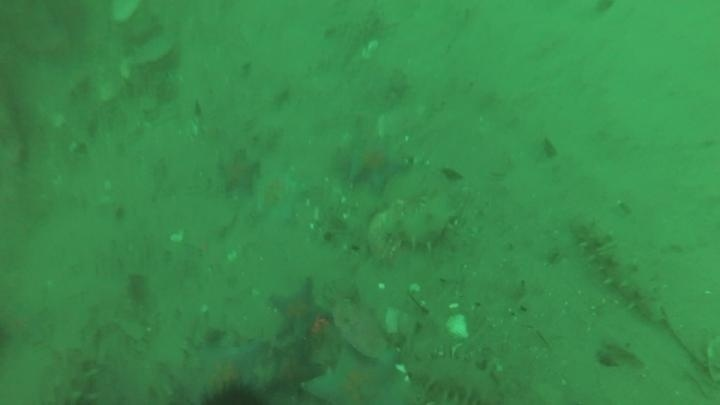echinus: (195, 378, 267, 405)
holothurian: (571, 216, 667, 324), (407, 349, 505, 405), (379, 187, 460, 254), (45, 333, 104, 405)
starfish: (300, 343, 413, 405), (182, 333, 270, 404), (267, 278, 337, 344), (341, 133, 412, 195), (252, 164, 310, 223), (266, 339, 322, 395), (214, 148, 263, 198)
